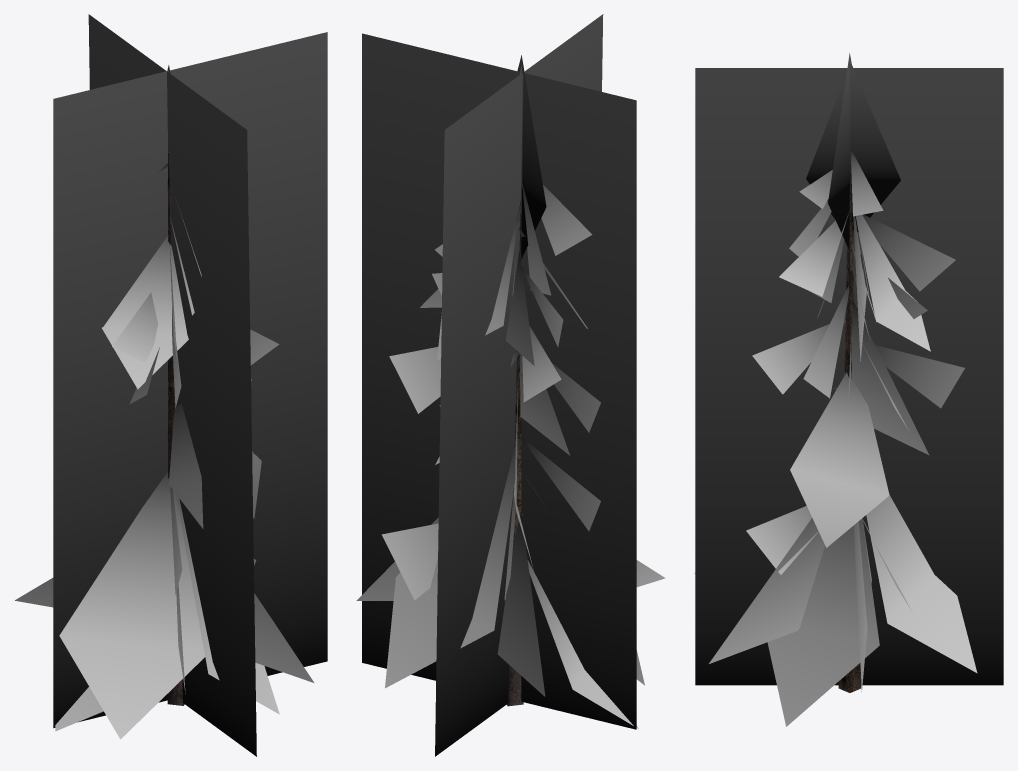
File: Pine_B.fbx
The picture shows the model from 3 angles, left to right: view 1: azimuth 30°, elevation 25°; view 2: azimuth 150°, elevation 25°; view 3: azimuth 270°, elevation 25°; orthographic projection. The views are drawn at different scales.
Visible parts, largest first — view 1: Billboard, Pine_B; view 2: Billboard, Pine_B; view 3: Billboard, Pine_B.
Part boxes in pixels (x1,y1,x2,y2): Billboard: (53, 14, 327, 756); Pine_B: (15, 65, 314, 739); Billboard: (362, 14, 636, 756); Pine_B: (356, 55, 665, 728); Billboard: (695, 68, 1003, 685); Pine_B: (694, 53, 977, 726).
Size of the model in its own units: 333 by 758 by 334.
